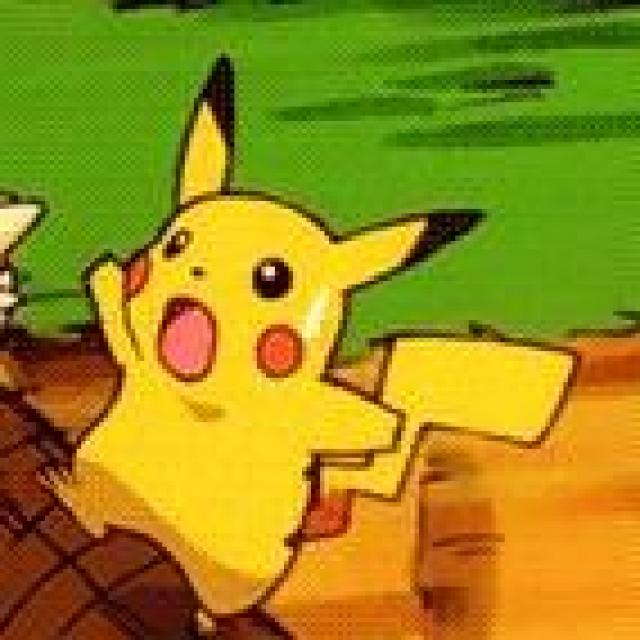pikachu: (38, 54, 574, 637)
